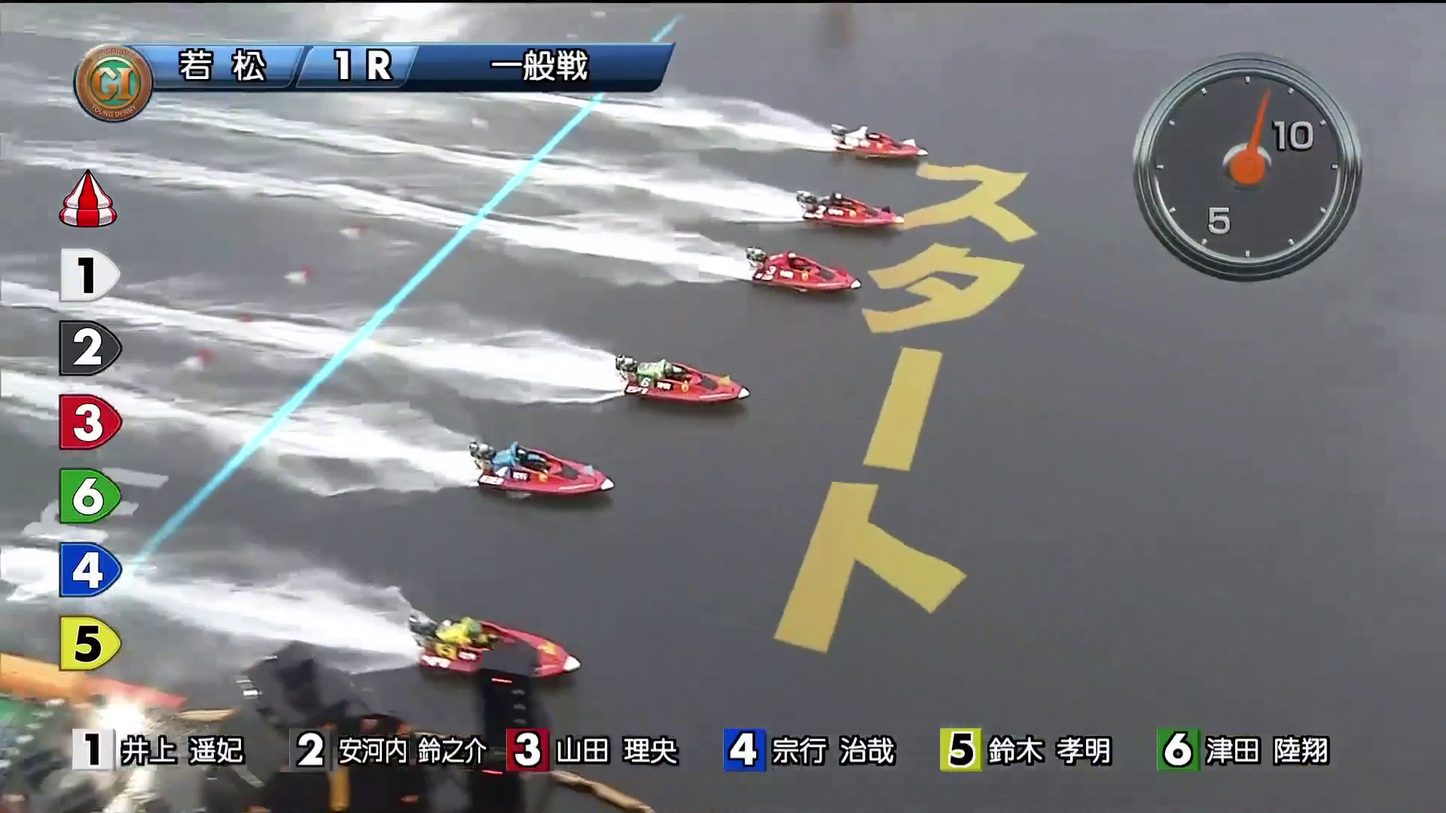１号艇: (802, 138, 884, 185)
２号艇: (834, 202, 895, 240)
３号艇: (784, 254, 839, 295)
４号艇: (646, 360, 712, 403)
５号艇: (507, 458, 576, 496)
６号艇: (458, 635, 523, 681)
